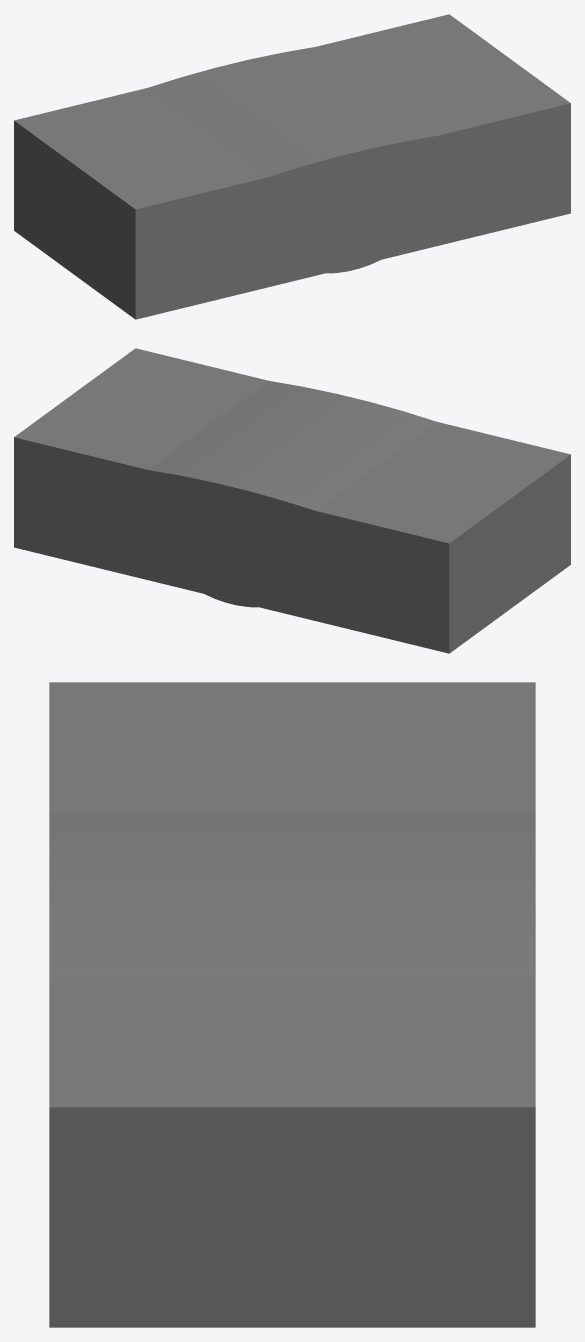
3 renders of one model, top to bottom at view 1: azimuth 30°, elevation 25°; view 2: azimuth 150°, elevation 25°; view 3: azimuth 270°, elevation 25°, orthographic. The views are drawn at different scales.
Visible parts, largest first — view 1: mesh_id4, mesh_id5; view 2: mesh_id4, mesh_id5; view 3: mesh_id4, mesh_id5.
Boxes of the visible parts, bbox=[...] form: mesh_id4: bbox=[14, 14, 570, 319]; mesh_id5: bbox=[148, 47, 437, 273]; mesh_id4: bbox=[14, 348, 570, 653]; mesh_id5: bbox=[147, 381, 436, 607]; mesh_id4: bbox=[49, 682, 535, 1327]; mesh_id5: bbox=[49, 812, 535, 976].
Bounding box in the file's own units: 0.512 × 0.1318 × 0.2477.
2 materials, 2 textured.
